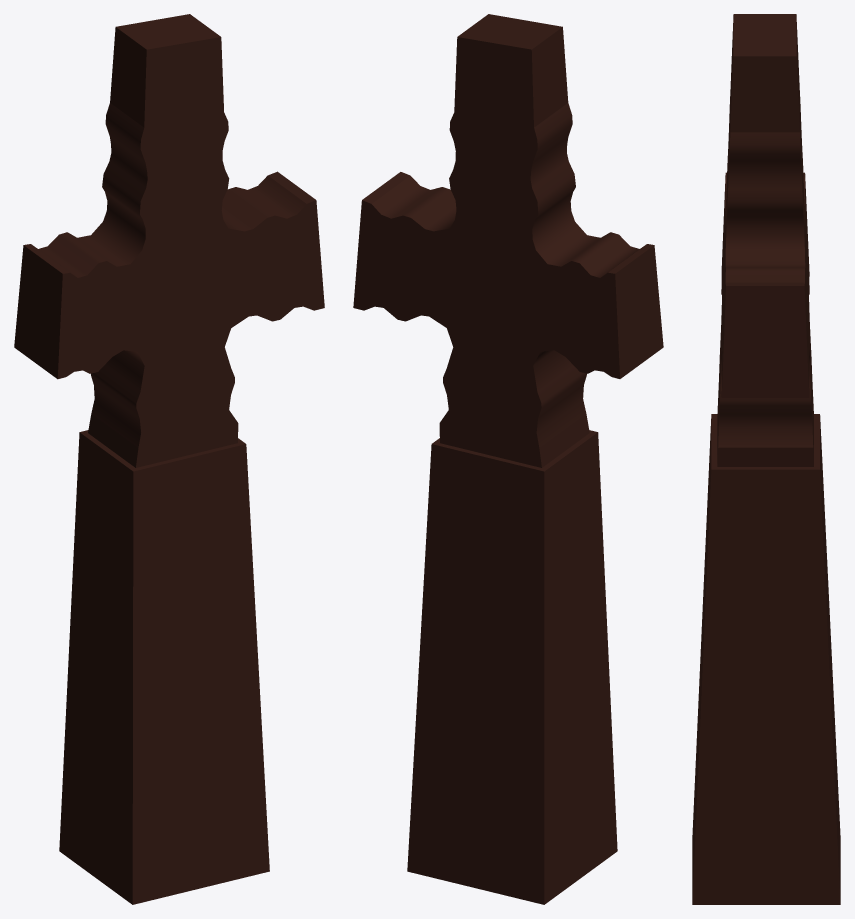
The model's file is 6 - Dupplin Stone.FBX.
3 views of the same model, side by side, from view 1: azimuth 30°, elevation 25°; view 2: azimuth 150°, elevation 25°; view 3: azimuth 270°, elevation 25° (orthographic).
Parts seen in each view (by area): view 1: Box012; view 2: Box012; view 3: Box012.
Boxes of the visible parts, <box> form: Box012: <box>14,14,324,904</box>; Box012: <box>353,14,663,904</box>; Box012: <box>692,14,840,904</box>.
Bounding box in the file's own units: 49.12 × 146 × 23.36.
